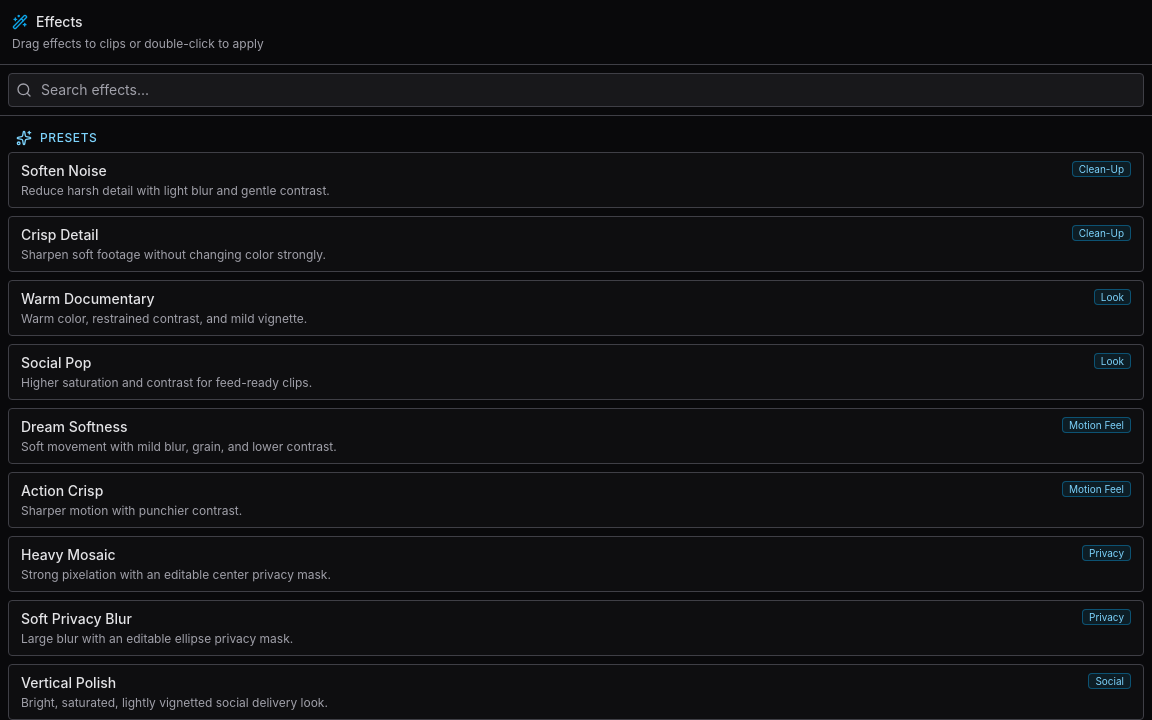
Test: EffectsBrowser › search functionality › should filter built-in visual presets by category and description
In the field with placeholder "Search effects...": (576,90) left=8, top=73, right=1144, bottom=107, type "privacy"
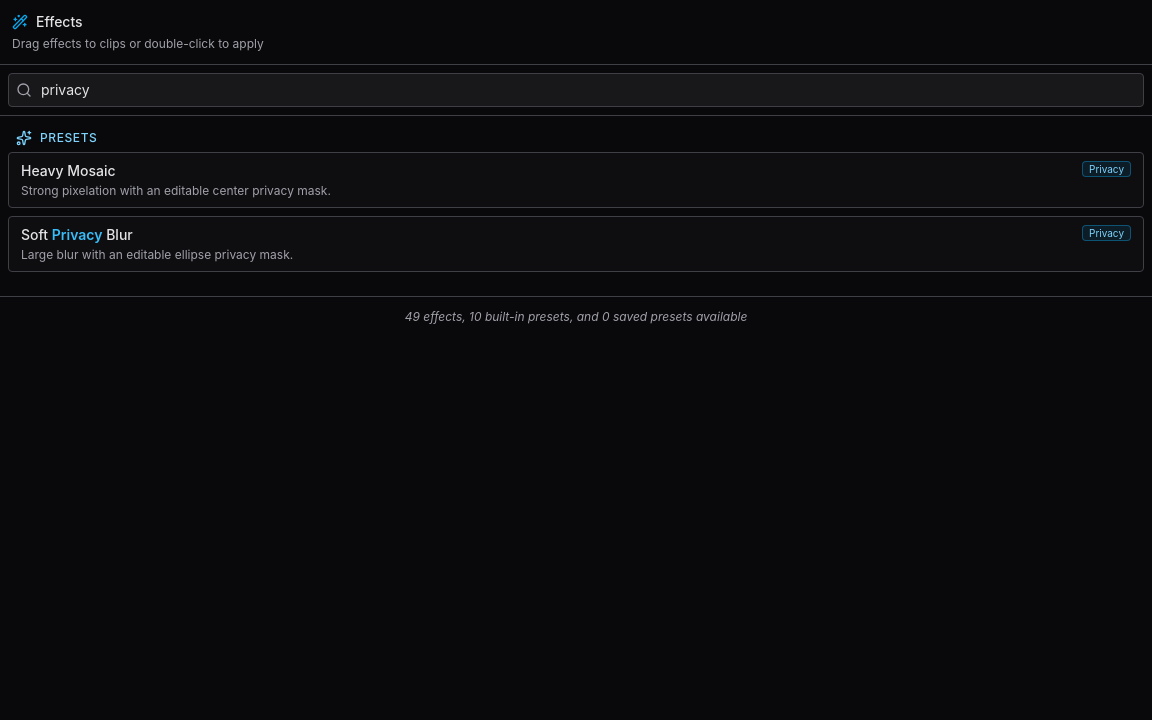
Expected: the text "Heavy Mosaic" is shown, left=21, top=162, right=116, bottom=179
Expected: the button "Warm Documentary" is gone
